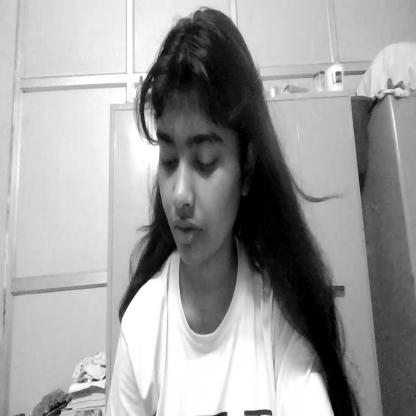Distracted: (142, 18, 256, 276)
